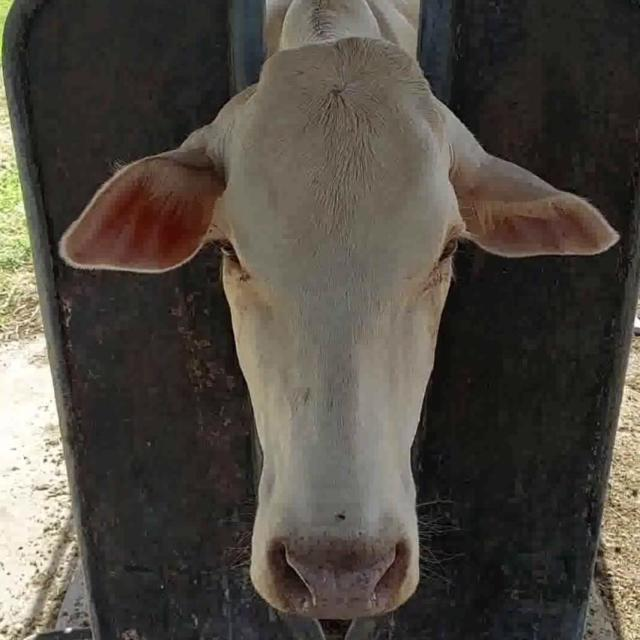cowFace: (214, 35, 460, 612)
